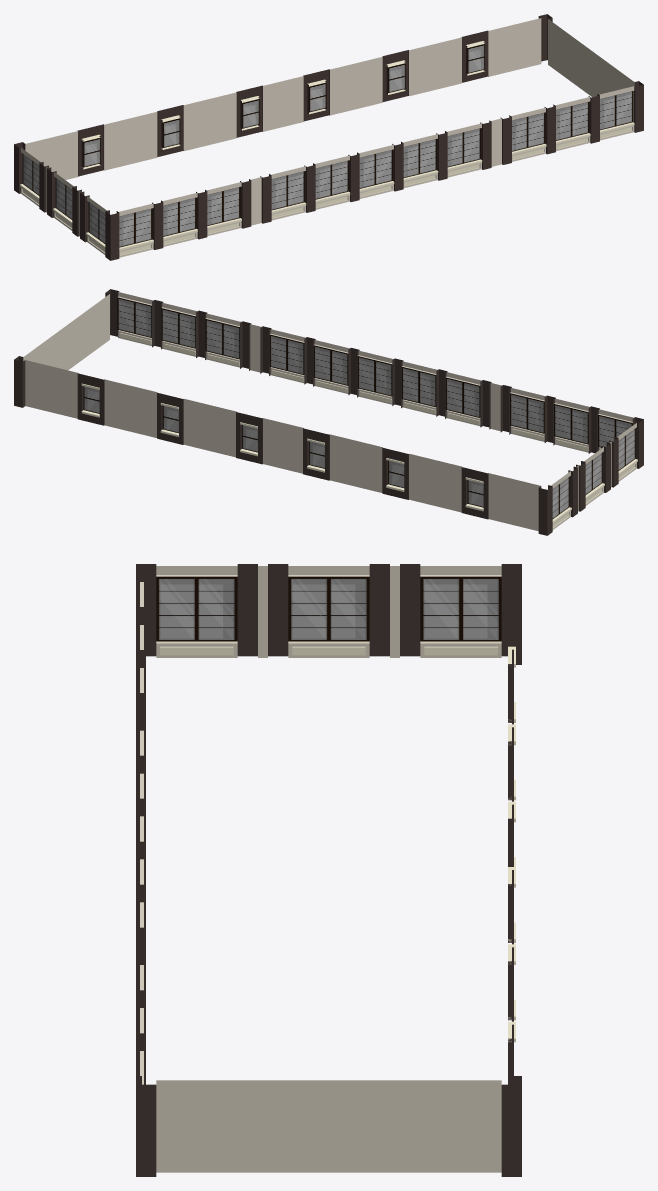
The model's file is BuildingSmall2_2.fbx.
3 renders of one model, top to bottom at view 1: azimuth 30°, elevation 25°; view 2: azimuth 150°, elevation 25°; view 3: azimuth 270°, elevation 25°, orthographic. The views are drawn at different scales.
Visible parts, largest first — view 1: BuildingSmall2_2; view 2: BuildingSmall2_2; view 3: BuildingSmall2_2.
Boxes of the visible parts, <box> form: BuildingSmall2_2: <box>14,14,643,260</box>; BuildingSmall2_2: <box>14,289,643,535</box>; BuildingSmall2_2: <box>136,564,521,1176</box>.
Bounding box in the file's own units: 6060 × 500 × 1900.
